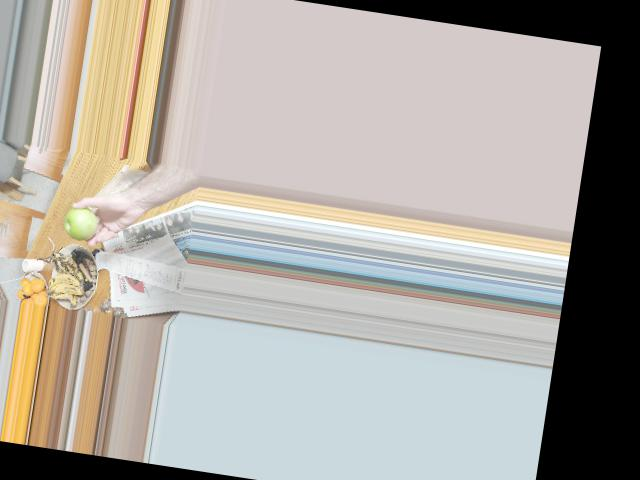apple: (63, 204, 98, 238)
